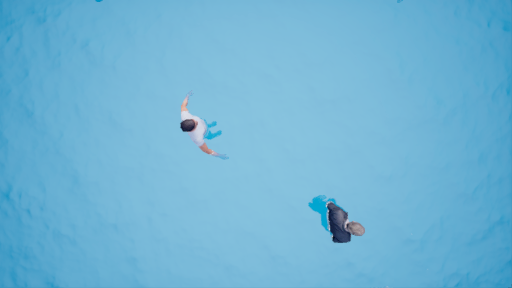person: (175, 94, 229, 160), (311, 188, 370, 245)
